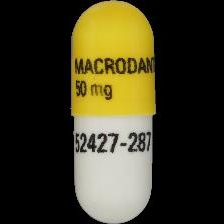47781-307: (0, 0, 224, 224)
